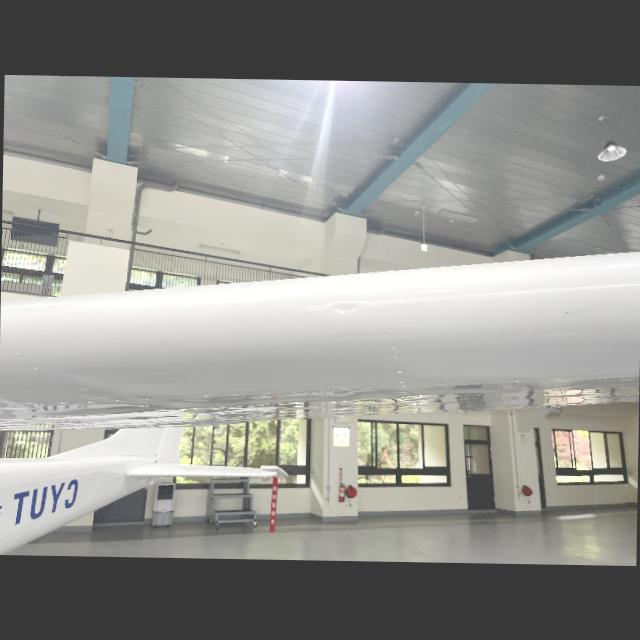dent: (312, 295, 373, 320)
